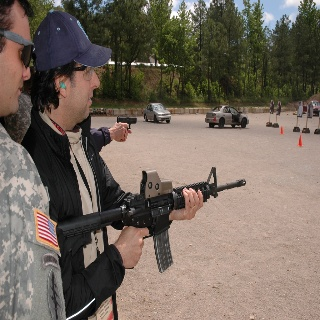rifle: (56, 165, 248, 273)
